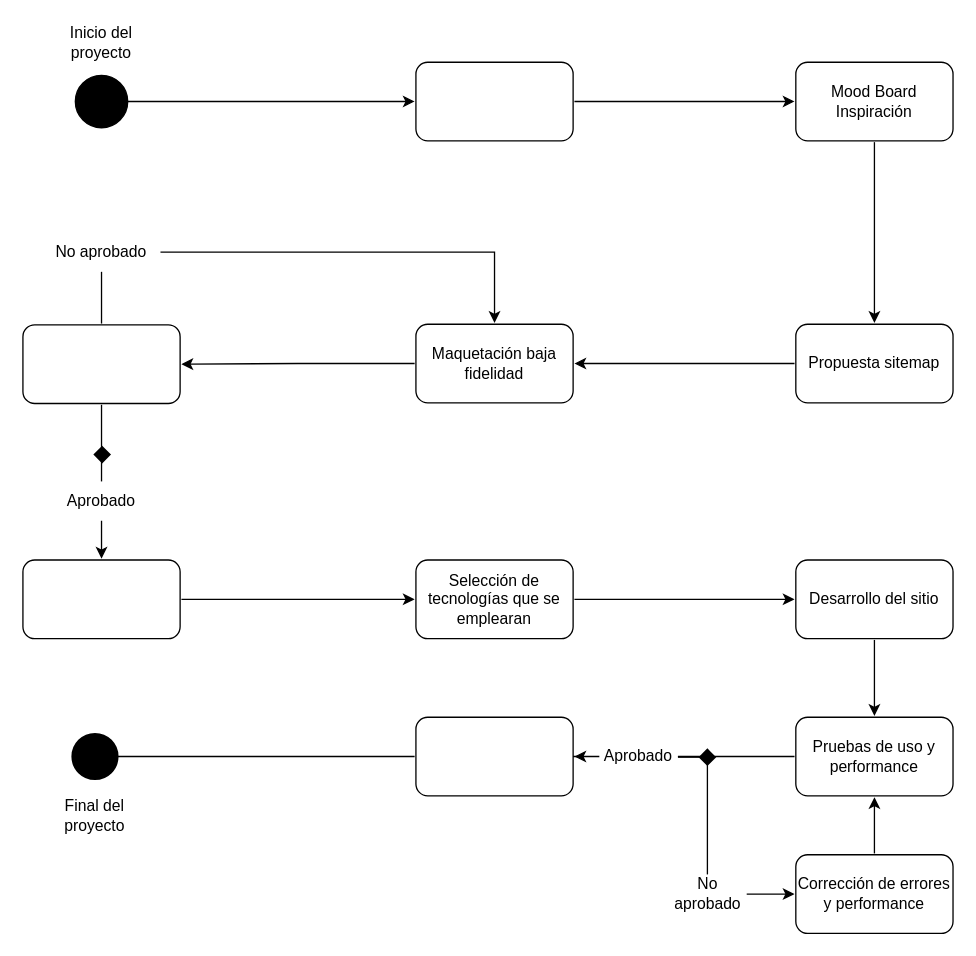
This 976x956 diagram has some shape labels left out. Each missing label, with the centre of its shape:
Lanzamiento/ / Deployment: the point at 494,756
Levantamiento del requerimiento: the point at 494,101
Maquetación alta fiidelidad: the point at 101,599
Validación de prototipo con consultor externo: the point at 101,363
